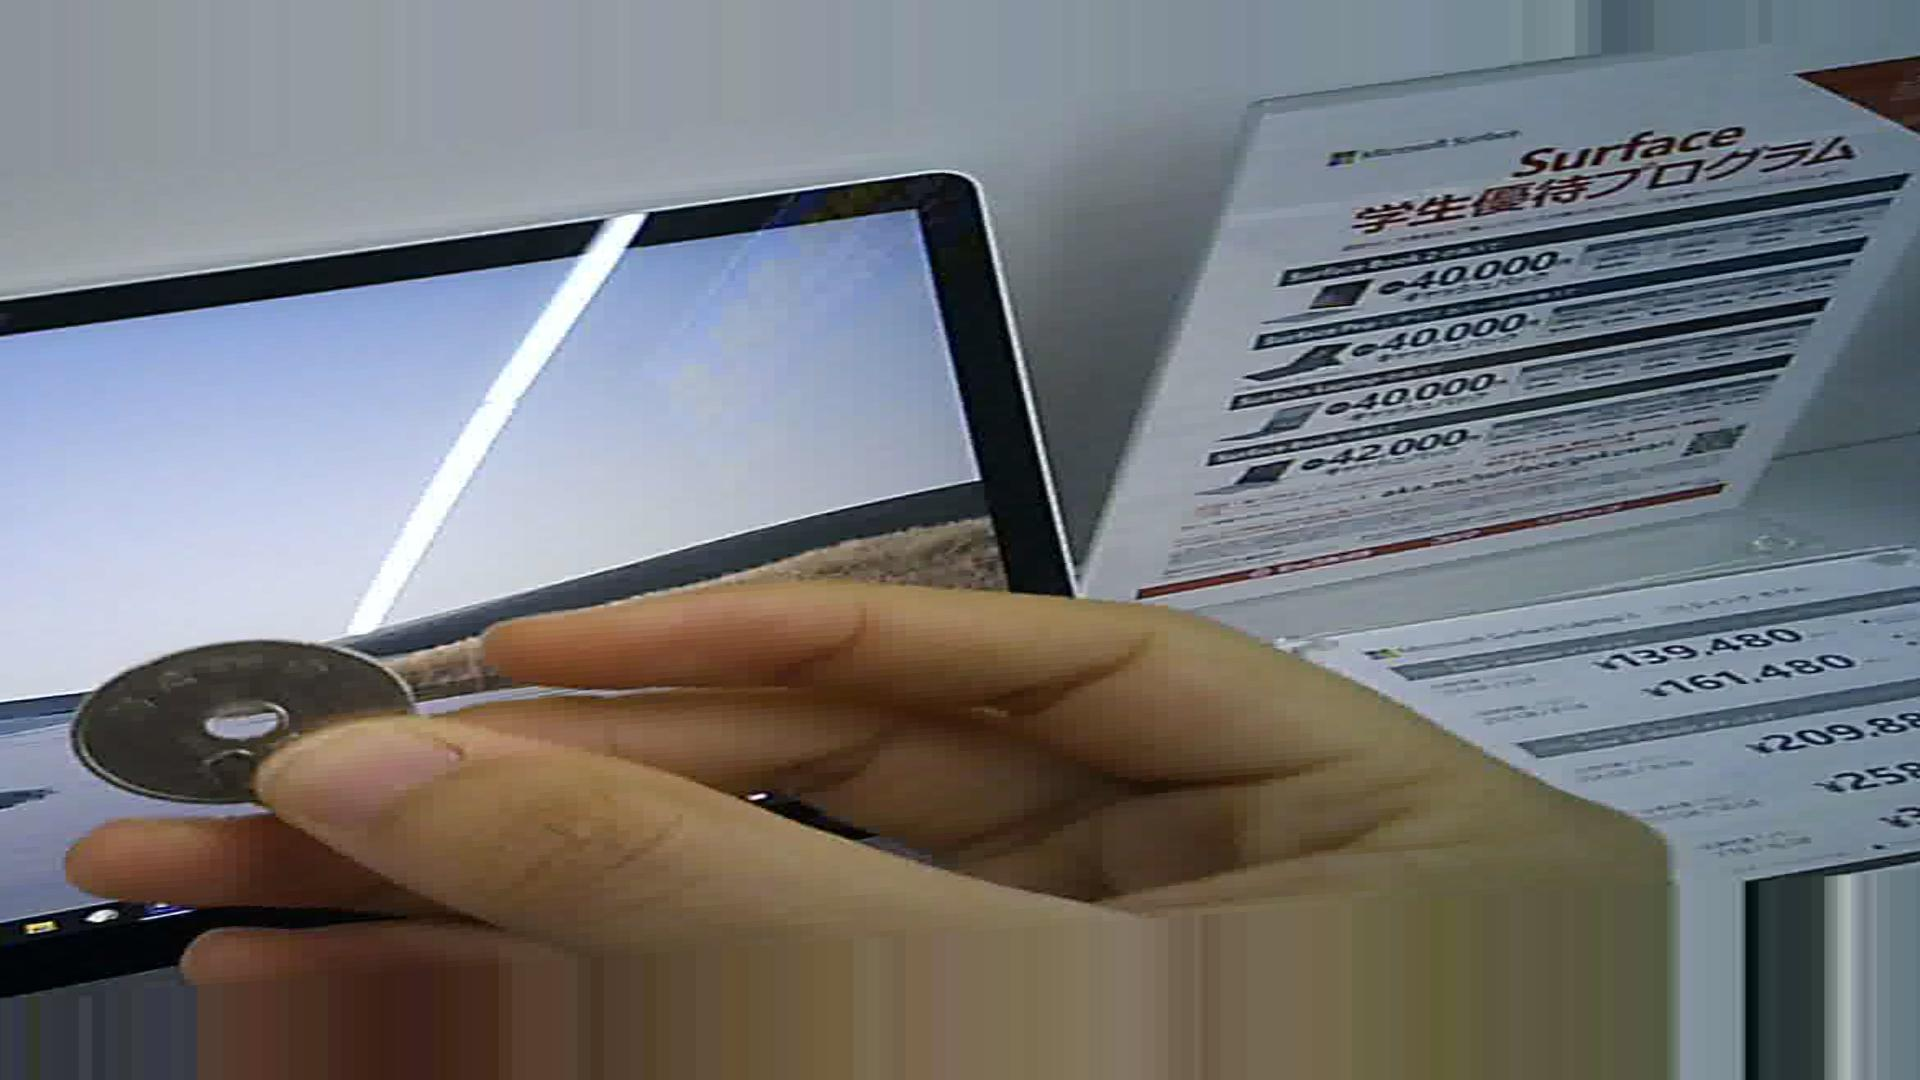50 Yen: (66, 624, 375, 807)
